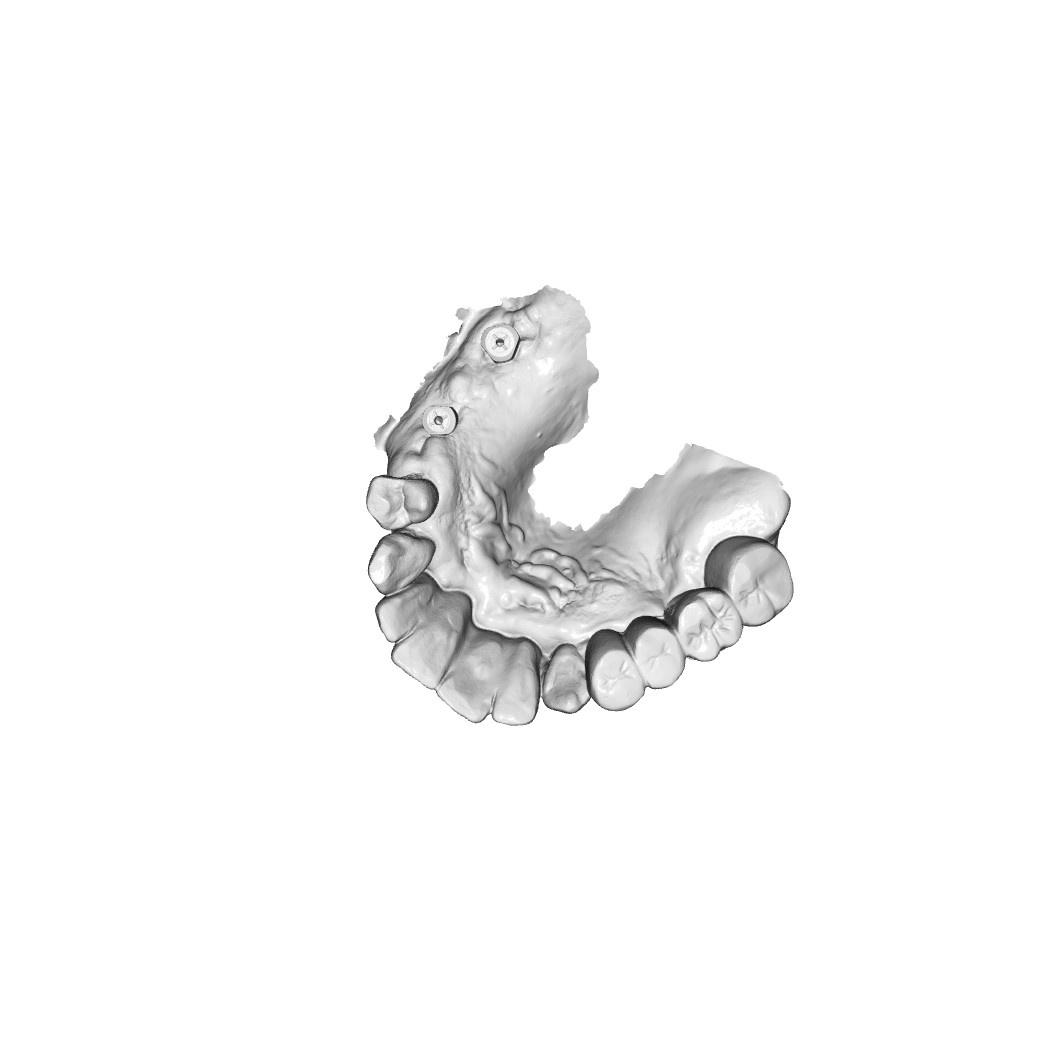canine: (367, 532, 440, 596), (541, 643, 595, 718)
implant_plus: (480, 323, 520, 362), (421, 398, 459, 438)
incisor: (394, 609, 463, 687), (439, 639, 502, 723), (493, 642, 540, 729), (377, 595, 445, 637)
molar: (722, 536, 792, 629), (673, 590, 742, 663)
premolar: (588, 636, 646, 713), (365, 473, 439, 531), (630, 620, 686, 691)
